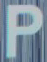Parking: (5, 2, 46, 60)
